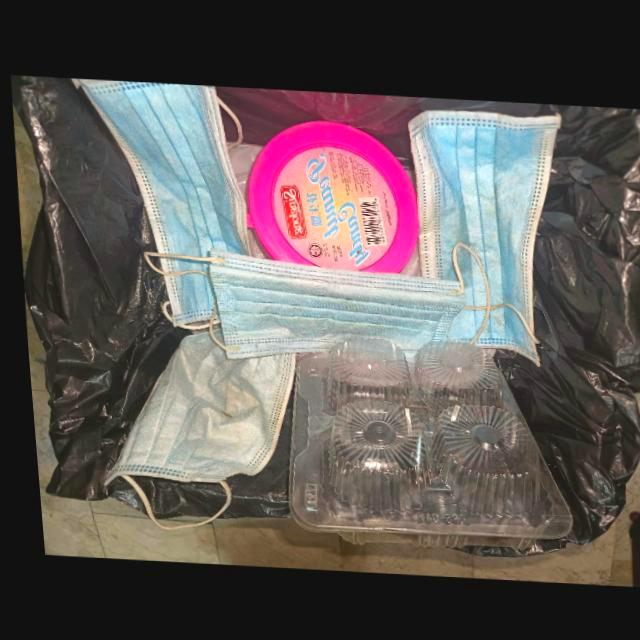plastic_container: (280, 334, 564, 547), (241, 117, 415, 270)
